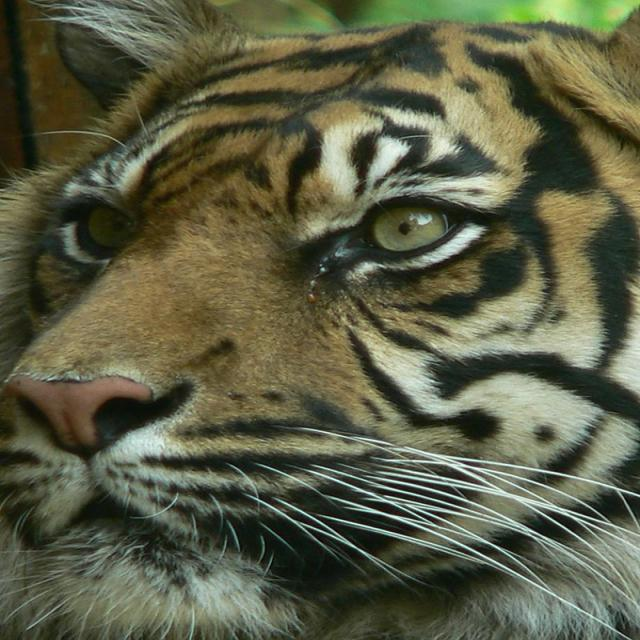Tiger: (1, 2, 633, 636)
